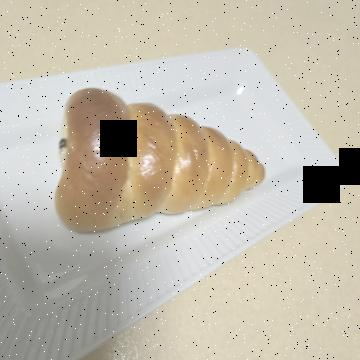cream horn: (73, 91, 250, 331)
